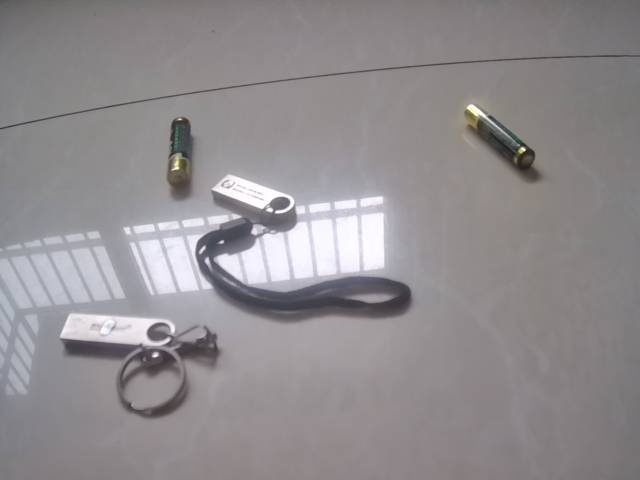U-disk: (206, 173, 386, 311), (50, 308, 220, 418)
battery: (458, 99, 539, 176), (163, 112, 201, 191)
